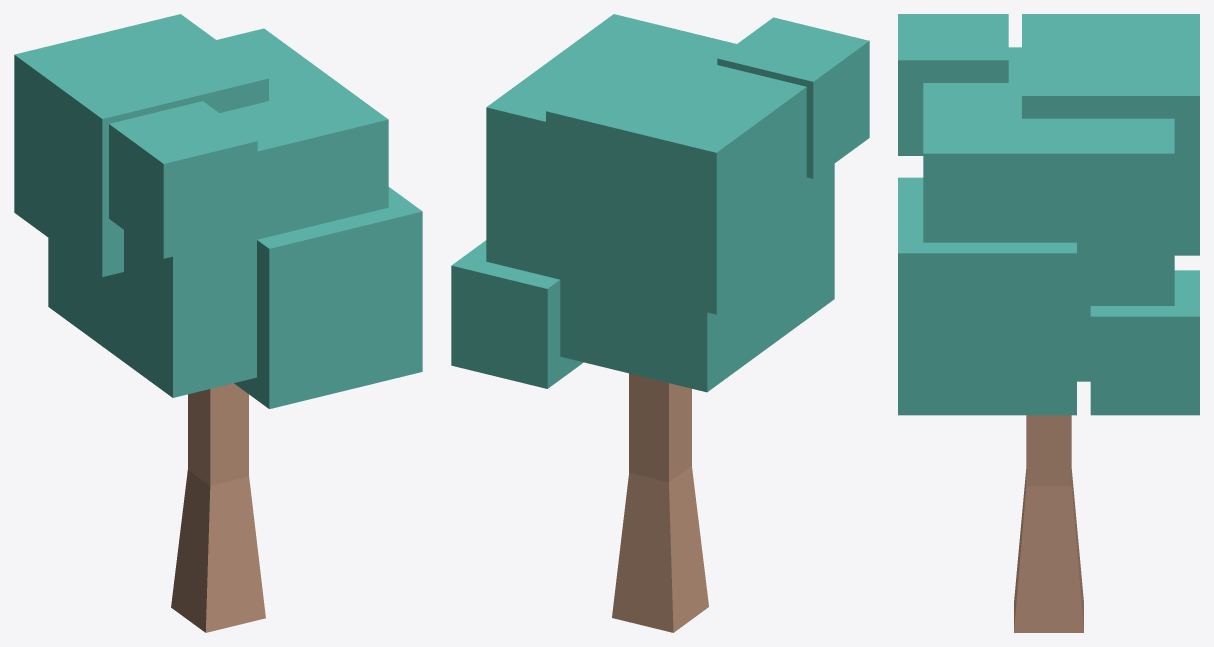
The model's file is tree_blocks.glb.
3 views of the same model, side by side, from view 1: azimuth 30°, elevation 25°; view 2: azimuth 150°, elevation 25°; view 3: azimuth 270°, elevation 25° (orthographic). The views are drawn at different scales.
Visible parts, largest first — view 1: tree_blocks; view 2: tree_blocks; view 3: tree_blocks.
Part boxes in pixels (x1,y1,x2,y2): tree_blocks: [14, 14, 422, 632]; tree_blocks: [451, 14, 869, 632]; tree_blocks: [898, 14, 1199, 632].
Size of the model in its own units: 0.6 by 1.19 by 0.6.
